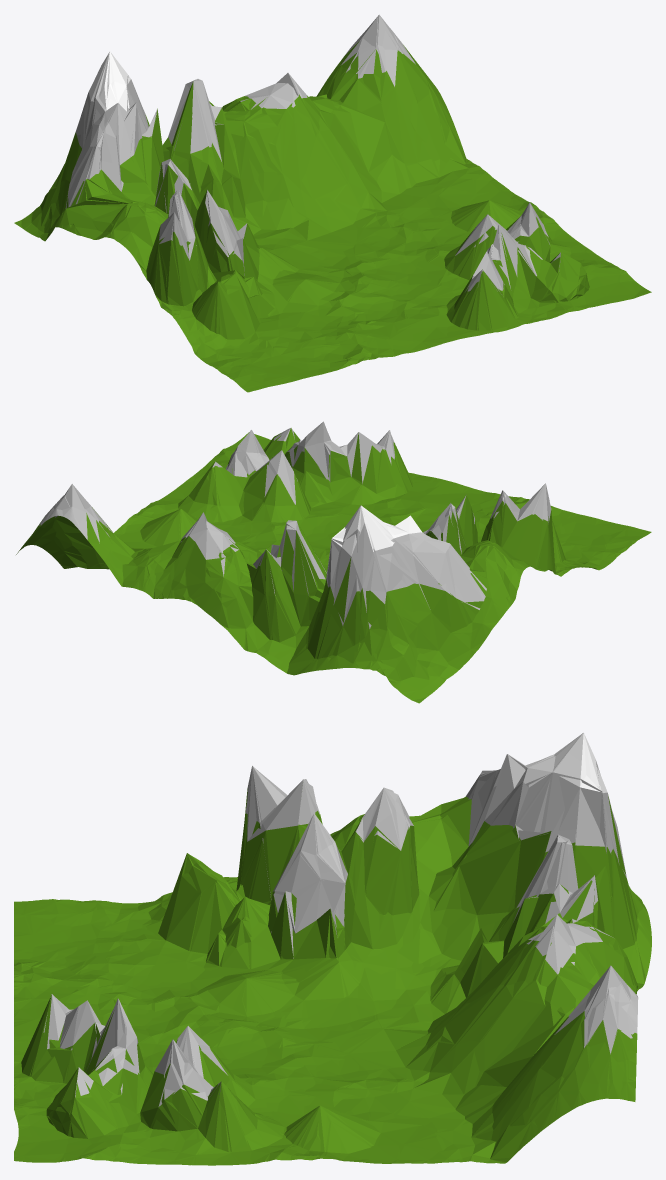
Rendered from landscape.fbx.
The picture shows the model from 3 angles, top to bottom: view 1: azimuth 30°, elevation 25°; view 2: azimuth 150°, elevation 25°; view 3: azimuth 270°, elevation 25°; orthographic projection. The views are drawn at different scales.
Parts seen in each view (by area): view 1: Landscape; view 2: Landscape; view 3: Landscape.
Part boxes in pixels (x1,y1,x2,y2): Landscape: (14,14,651,392); Landscape: (16,421,651,703); Landscape: (14,732,651,1165).
Size of the model in its own units: 5284 by 1975 by 5153.
